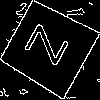Z: (24, 23, 78, 72)
